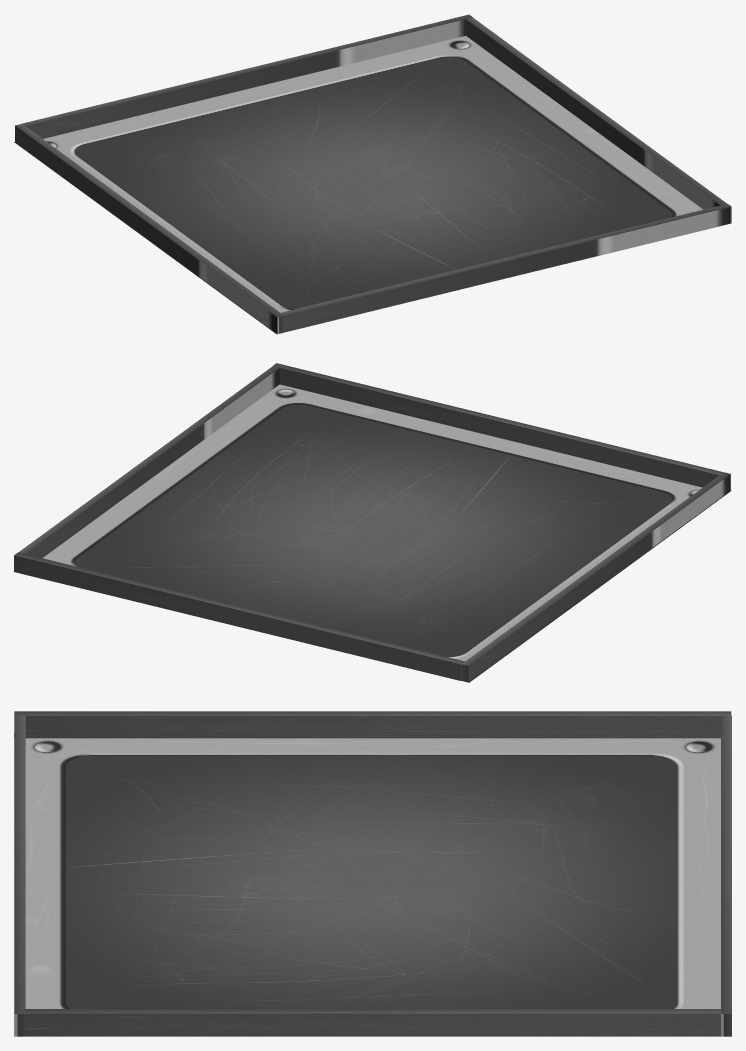
File: com.demensdeum.hitech.town.map.model.glb
The picture shows the model from 3 angles, top to bottom: view 1: azimuth 30°, elevation 25°; view 2: azimuth 150°, elevation 25°; view 3: azimuth 270°, elevation 25°; orthographic projection. The views are drawn at different scales.
Visible parts, largest first — view 1: Ground, Wall.003, Wall.002, Wall, Wall.001; view 2: Ground, Wall.002, Wall.003, Wall, Wall.001; view 3: Ground, Wall, Wall.001, Wall.003, Wall.002.
Part boxes in pixels (x1,y1,x2,y2): Ground: [14, 36, 731, 334]; Wall.003: [281, 204, 731, 331]; Wall.002: [22, 14, 472, 138]; Wall: [15, 124, 284, 333]; Wall.001: [466, 17, 727, 209]; Ground: [42, 384, 731, 682]; Wall.002: [14, 552, 464, 680]; Wall.003: [273, 363, 723, 487]; Wall: [461, 472, 730, 682]; Wall.001: [18, 366, 279, 557]; Ground: [14, 733, 720, 1036]; Wall: [14, 711, 731, 738]; Wall.001: [24, 1009, 721, 1036]; Wall.003: [14, 716, 25, 1036]; Wall.002: [721, 715, 731, 1036].
Bounding box in the file's own units: 135 × 4.75 × 135.
Materials: 5 (5 with a texture image).
